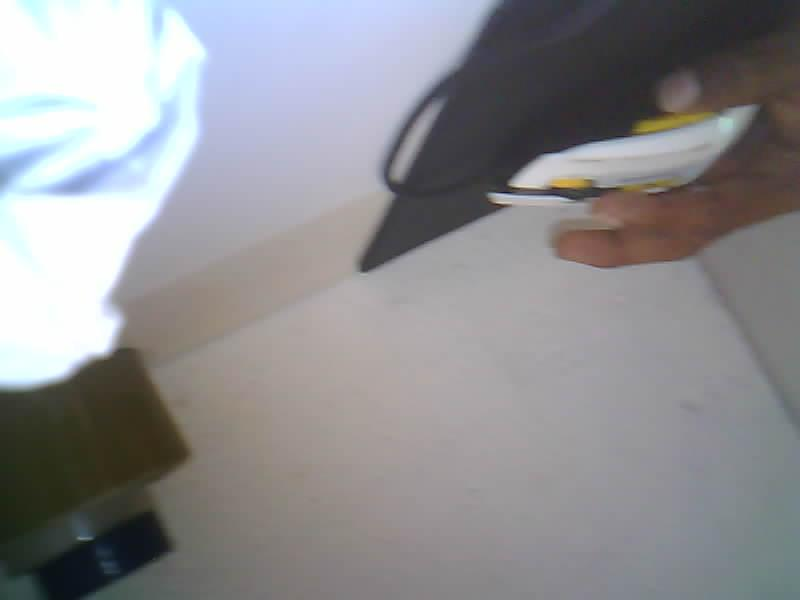biodegradable: (1, 0, 204, 387)
